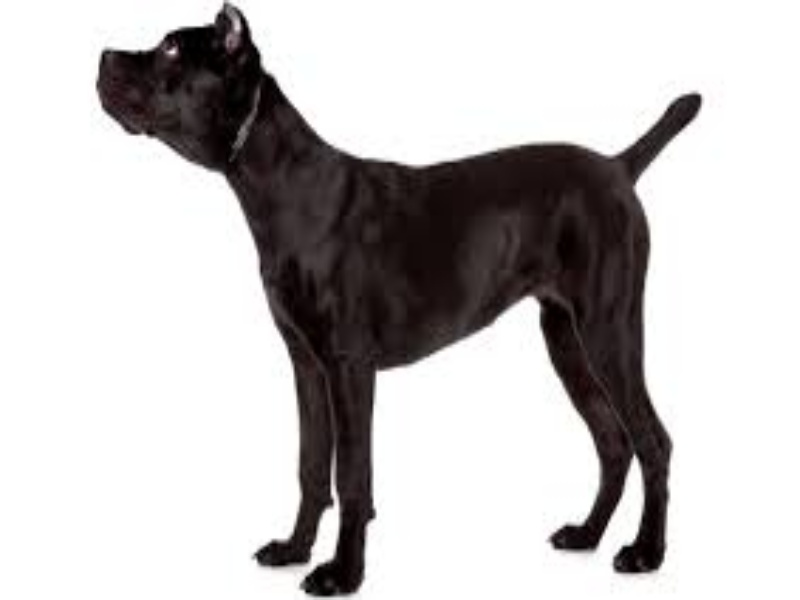dog: (88, 1, 681, 587)
